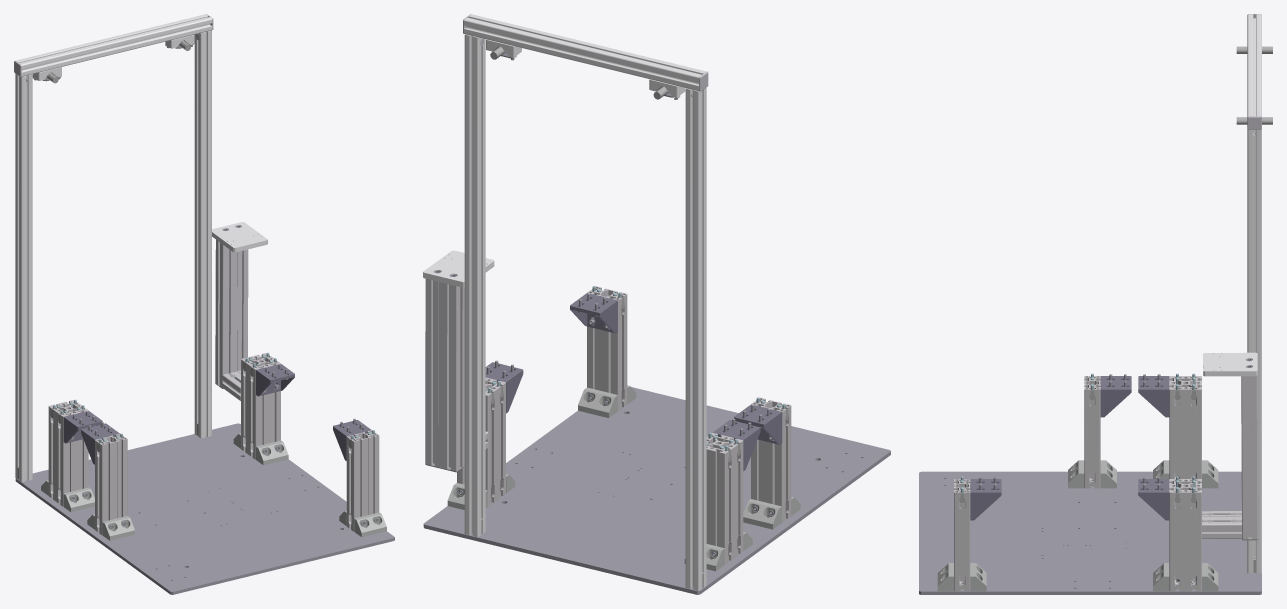
File: PortalConstruction-transformed.glb
The picture shows the model from 3 angles, left to right: view 1: azimuth 30°, elevation 25°; view 2: azimuth 150°, elevation 25°; view 3: azimuth 270°, elevation 25°; orthographic projection. The views are drawn at different scales.
Parts seen in each view (by area): view 1: DIN 912 - M5 x 0,8 x 25 x 23.ipt006; view 2: DIN 912 - M5 x 0,8 x 25 x 23.ipt006; view 3: DIN 912 - M5 x 0,8 x 25 x 23.ipt006.
Part boxes in pixels (box(x1,y1,x2,y2)): DIN 912 - M5 x 0,8 x 25 x 23.ipt006: box(14, 14, 394, 594); DIN 912 - M5 x 0,8 x 25 x 23.ipt006: box(423, 14, 890, 594); DIN 912 - M5 x 0,8 x 25 x 23.ipt006: box(919, 14, 1272, 594).
Bounding box in the file's own units: 0.7946 × 1.41 × 0.9747.
Materials: 1 (1 with a texture image).
